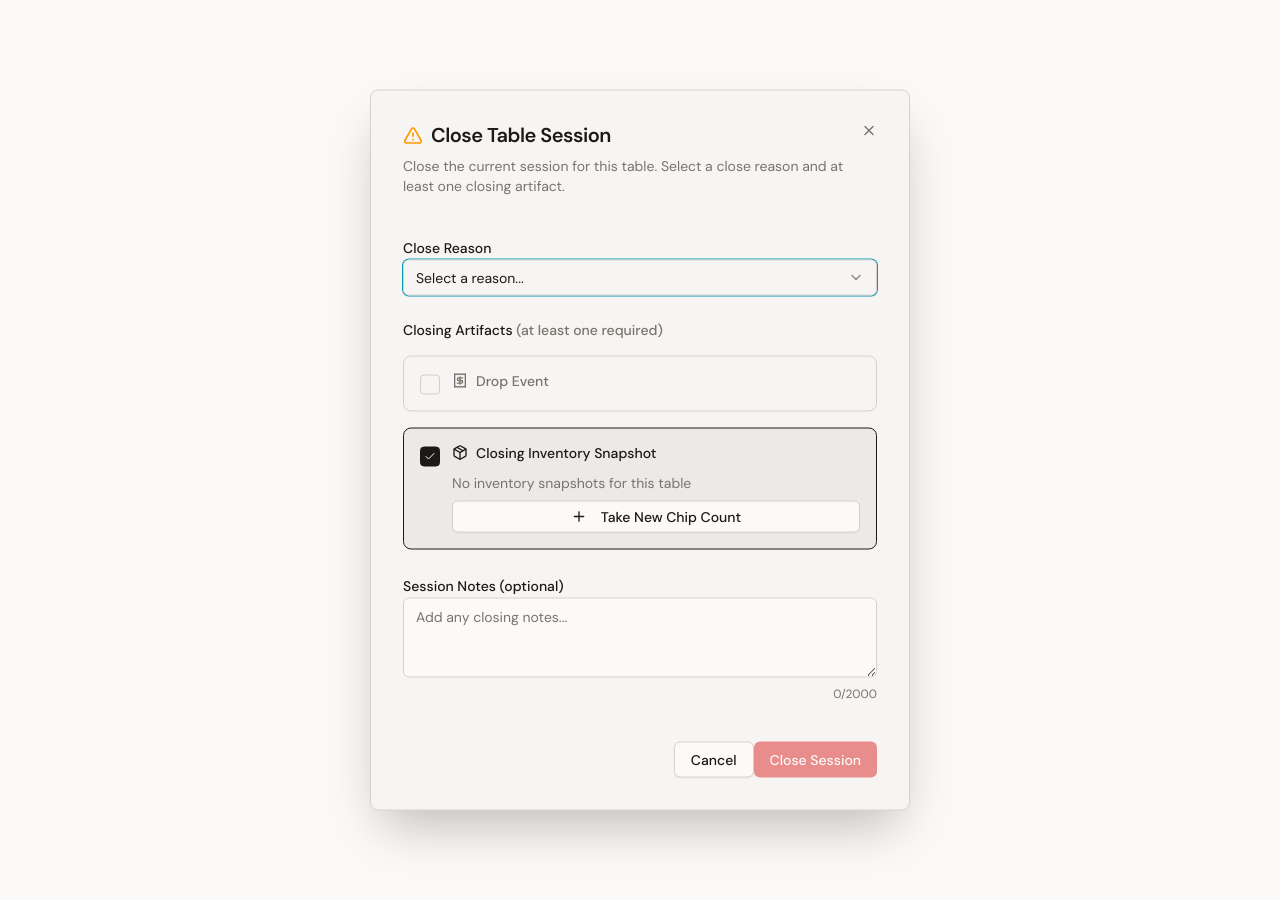
Scenario: CloseSessionDialog › shows close note textarea when "other" is selected
The width and height of the screenshot is (1280, 900).
Open the select and pick 'other'
Click the dropdown at (470,278), box x1=403 y1=260 x2=877 y2=296
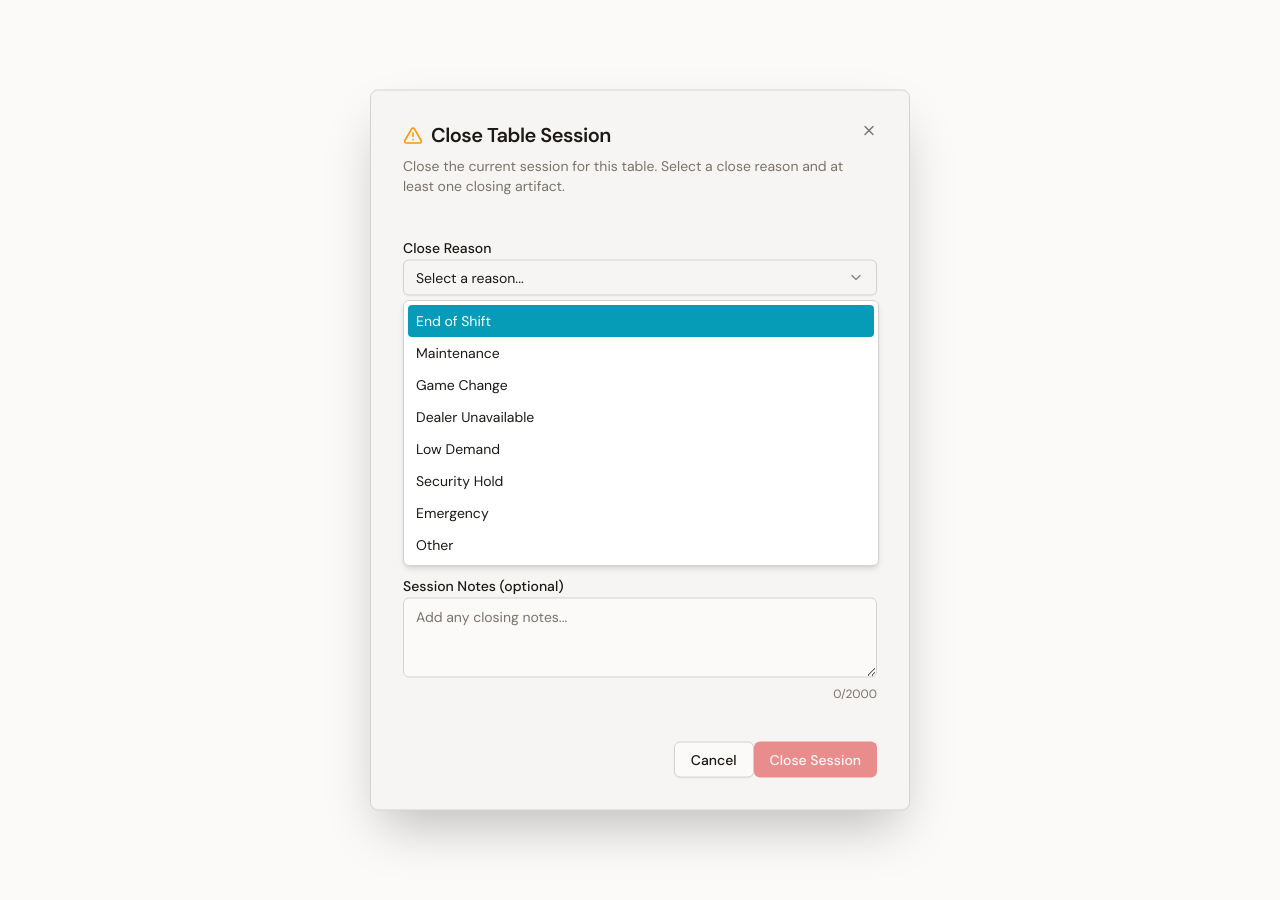
Click the option "Other" at (435,545), box x1=416 y1=536 x2=454 y2=554
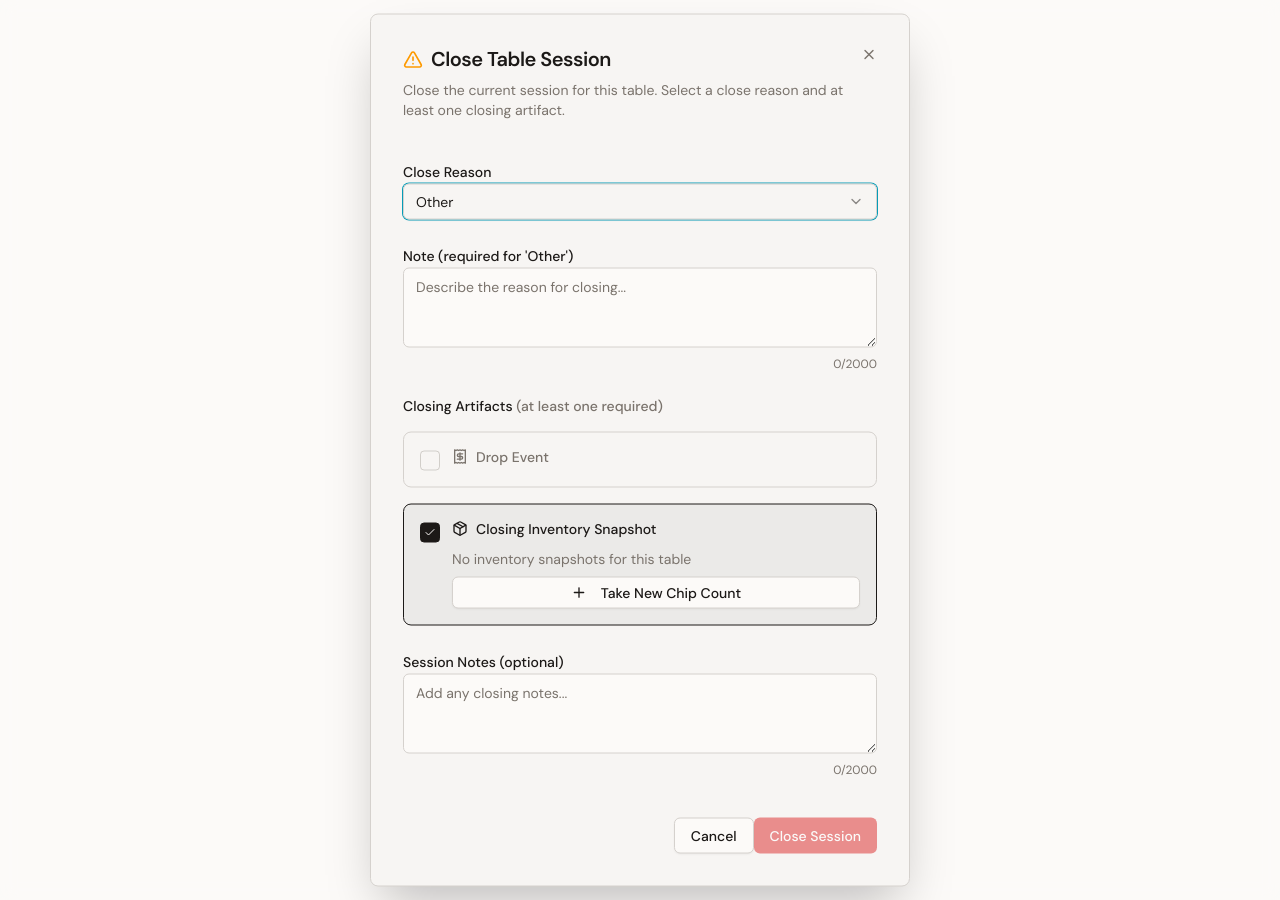
Result: the text box labelled "Note (required for 'Other')" is shown at x1=403 y1=268 x2=877 y2=348
